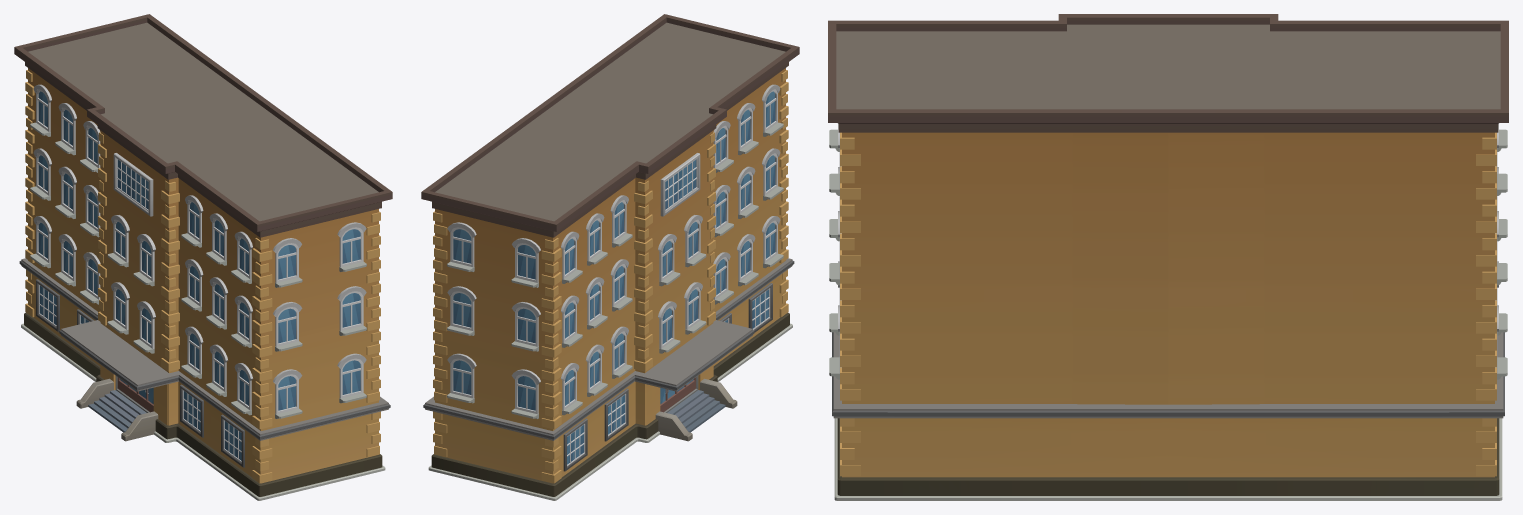
Rendered from Building_6_D.fbx.
3 renders of one model, left to right at view 1: azimuth 30°, elevation 25°; view 2: azimuth 150°, elevation 25°; view 3: azimuth 270°, elevation 25°, orthographic. The views are drawn at different scales.
Visible parts, largest first — view 1: Building_6_D; view 2: Building_6_D; view 3: Building_6_D.
Boxes of the visible parts, <box> form: Building_6_D: <box>14,14,392,500</box>; Building_6_D: <box>421,14,799,500</box>; Building_6_D: <box>828,14,1508,500</box>.
Size of the model in its own units: 935 by 1440 by 2273.
